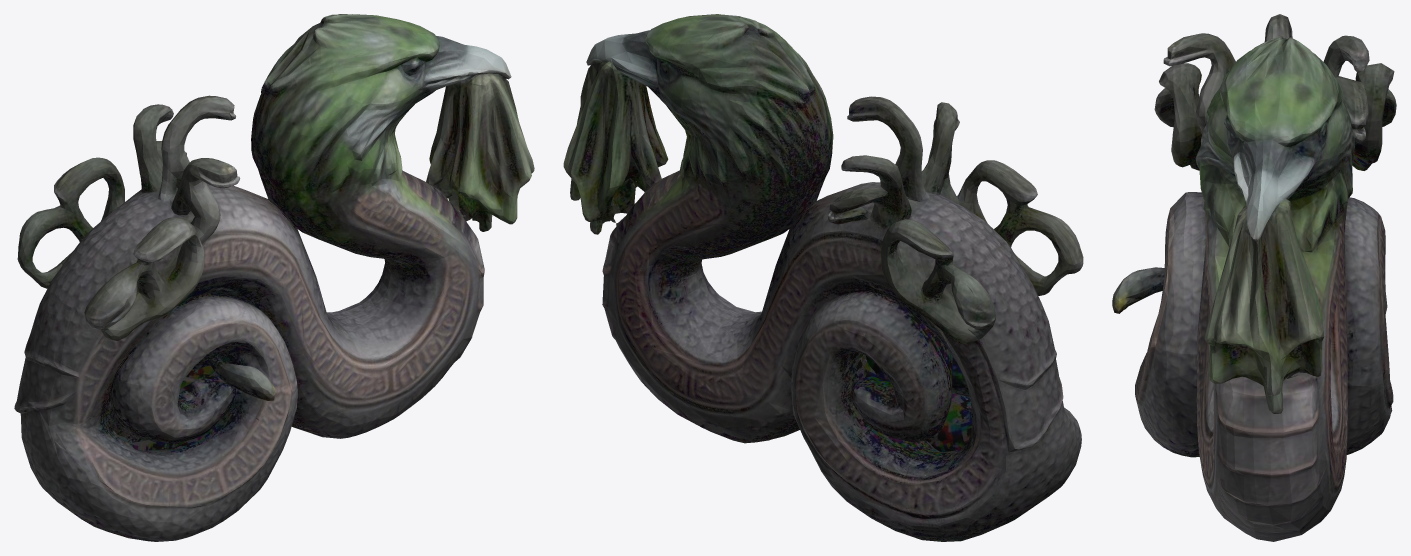
The model's file is duskcoil__rotLaundress.glb.
The picture shows the model from 3 angles, left to right: view 1: azimuth 30°, elevation 25°; view 2: azimuth 150°, elevation 25°; view 3: azimuth 270°, elevation 25°; orthographic projection. The views are drawn at different scales.
Visible parts, largest first — view 1: world; view 2: world; view 3: world.
Part boxes in pixels (x1,y1,x2,y2): world: (14,14,534,541); world: (563,14,1083,541); world: (1112,14,1396,541).
Bounding box in the file's own units: 0.9987 × 0.8703 × 0.4347.
Materials: 1 (1 with a texture image).
